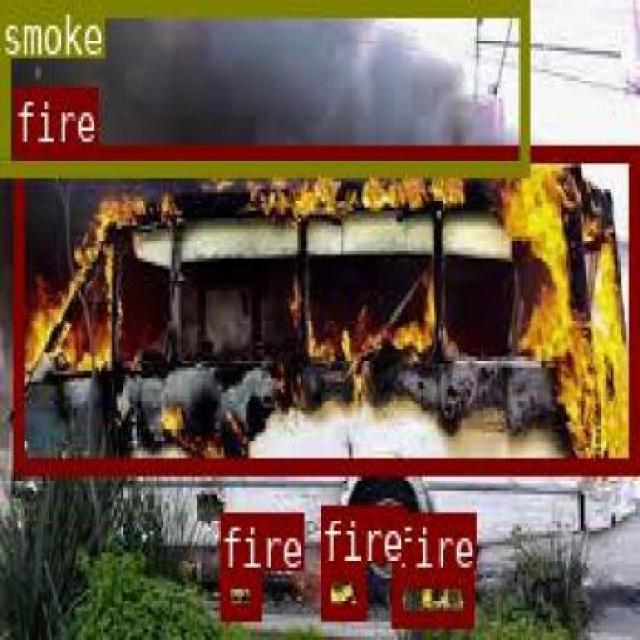Smoke: (3, 32, 524, 142)
